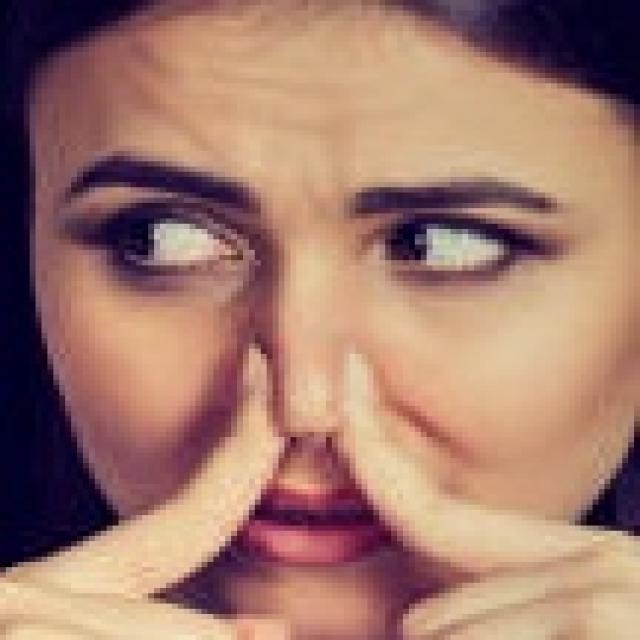Anxiety: (28, 2, 634, 635)
